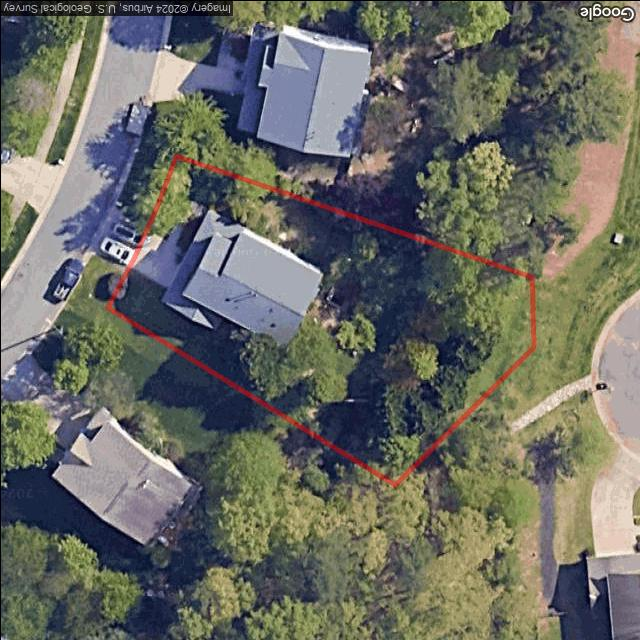Driveway: (129, 229, 186, 285)
Extra-Driveway: (93, 204, 146, 267)
Extra-Lawn: (114, 142, 175, 233), (75, 246, 128, 308)
House: (160, 206, 325, 348)
Lawn: (107, 155, 532, 484)
Other: (315, 236, 534, 484), (175, 218, 200, 251)
Sidewalk: (165, 199, 209, 243)
